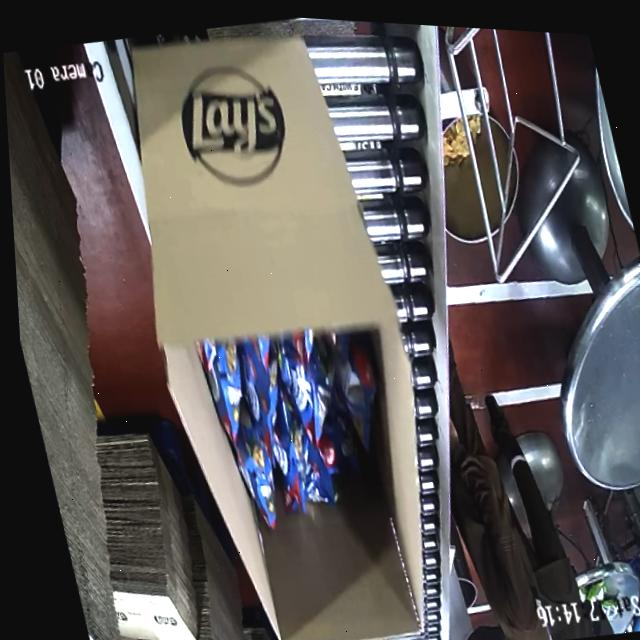PAPRIKA: (189, 309, 403, 553)
